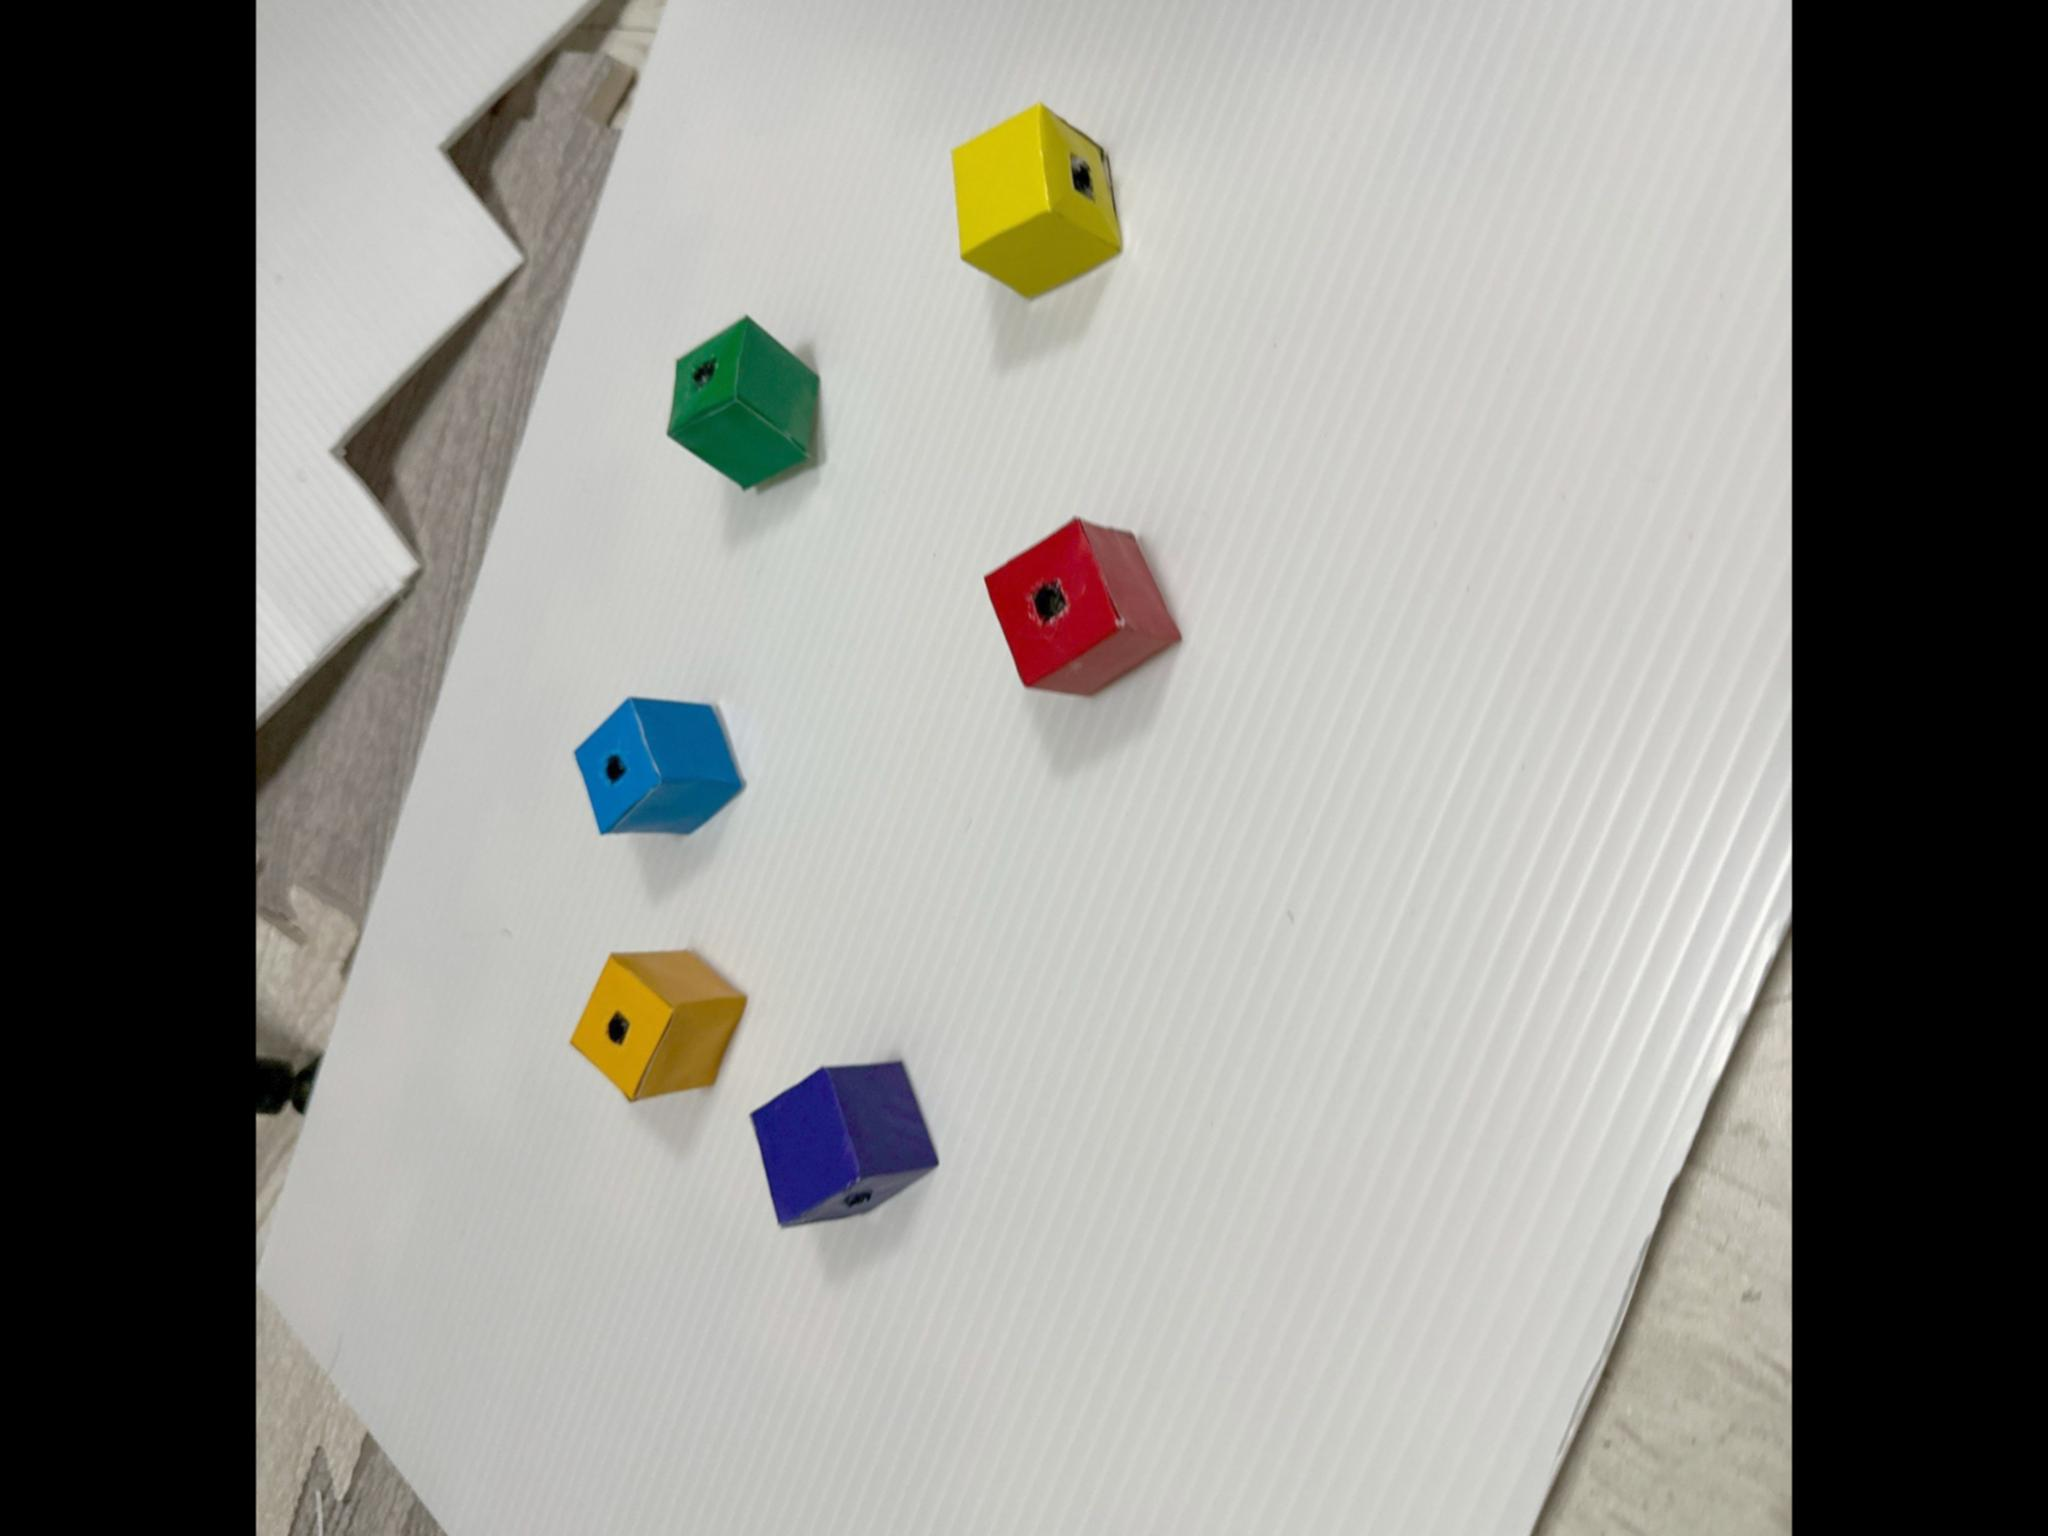base: (985, 518, 1180, 694), (953, 103, 1121, 295), (751, 1060, 937, 1225), (571, 949, 745, 1100), (668, 316, 818, 489), (576, 697, 742, 831)
